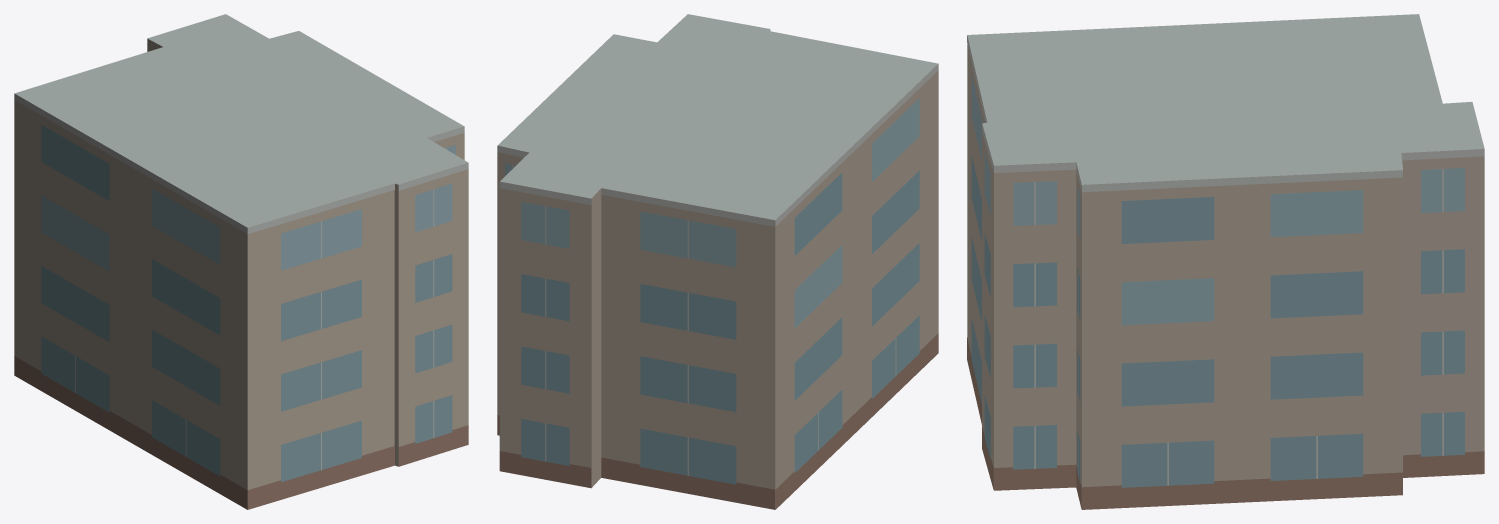
The model's file is survey-upis-32819832.glb.
The picture shows the model from 3 angles, left to right: view 1: azimuth 30°, elevation 25°; view 2: azimuth 150°, elevation 25°; view 3: azimuth 270°, elevation 25°; orthographic projection. The views are drawn at different scales.
Visible parts, largest first — view 1: survey-upis-32819832.tmp; view 2: survey-upis-32819832.tmp; view 3: survey-upis-32819832.tmp.
Boxes of the visible parts, x1,y1,x2,y2 form: survey-upis-32819832.tmp: (14,14,468,509); survey-upis-32819832.tmp: (497,14,938,509); survey-upis-32819832.tmp: (967,14,1484,509).
Bounding box in the file's own units: 12.12 × 10.74 × 15.51.
